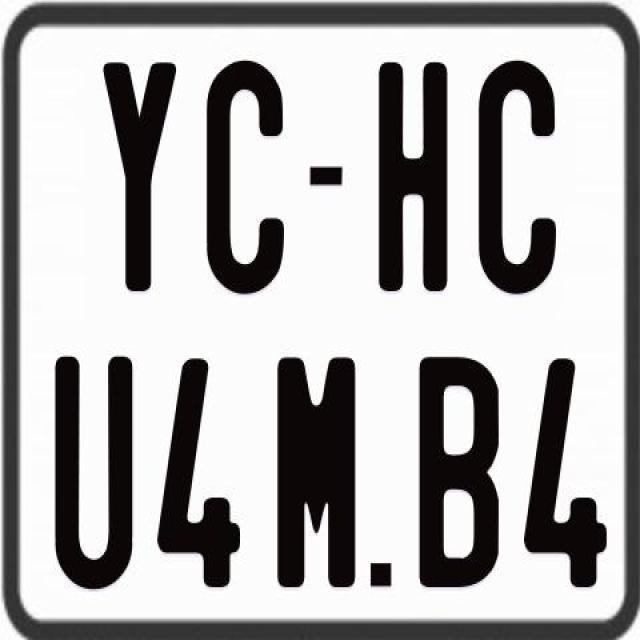4: (154, 357, 242, 590), (521, 355, 604, 586)
B: (416, 355, 500, 595)
C: (206, 58, 292, 292), (478, 56, 562, 294)
H: (376, 62, 448, 292)
M: (276, 352, 354, 587)
U: (53, 354, 136, 596)
Y: (102, 58, 174, 286)
